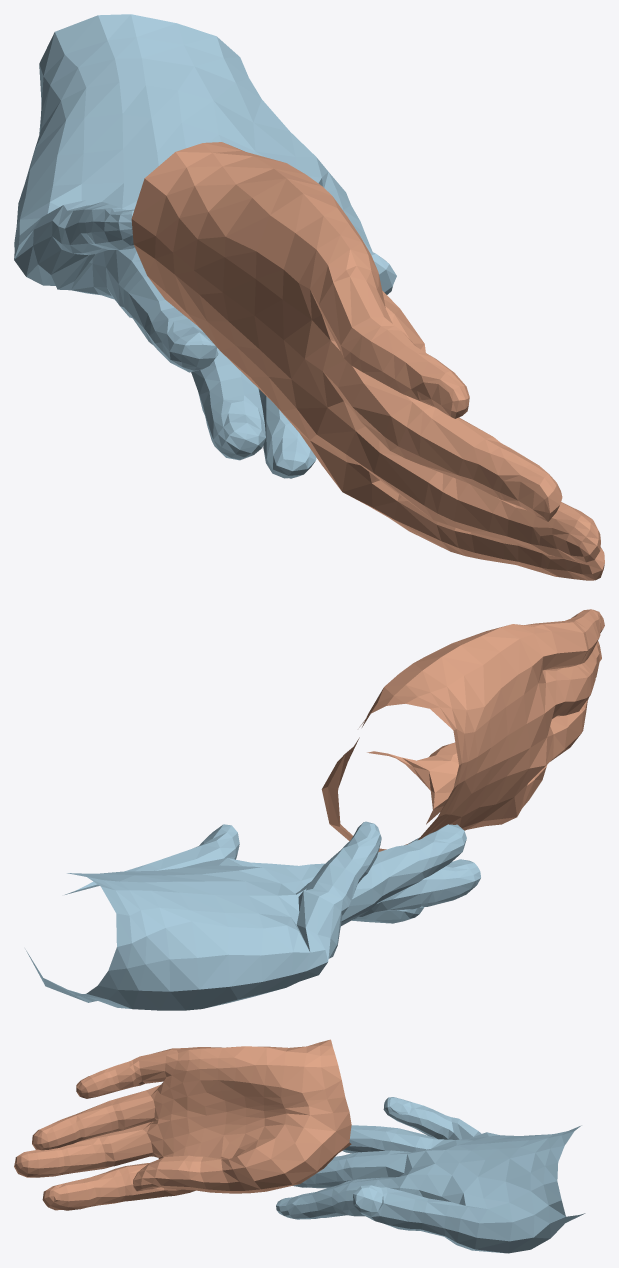
File: frame_047.glb
3 views of the same model, one above another, from view 1: azimuth 30°, elevation 25°; view 2: azimuth 150°, elevation 25°; view 3: azimuth 270°, elevation 25° (orthographic). The views are drawn at different scales.
Parts seen in each view (by area): view 1: world; view 2: world; view 3: world.
Boxes of the visible parts, left/top/right/bottom form: world: left=14, top=14, right=604, bottom=580; world: left=25, top=609, right=604, bottom=1010; world: left=14, top=1039, right=585, bottom=1253.
Size of the model in its own units: 0.1026 by 0.089 by 0.291.
